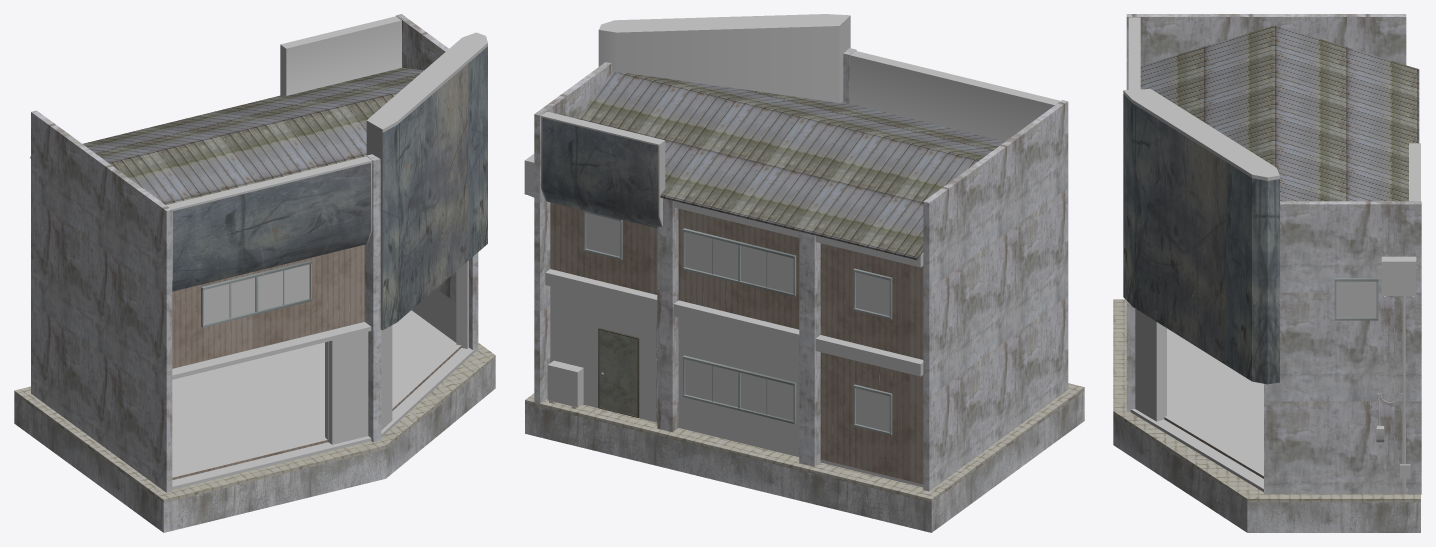
The model's file is ms_kado_c_in.fbx.
3 views of the same model, side by side, from view 1: azimuth 30°, elevation 25°; view 2: azimuth 150°, elevation 25°; view 3: azimuth 270°, elevation 25° (orthographic). The views are drawn at different scales.
Visible parts, largest first — view 1: ms_kado_c_in; view 2: ms_kado_c_in; view 3: ms_kado_c_in.
Part boxes in pixels (bbox=[...]): ms_kado_c_in: bbox=[14, 14, 495, 532]; ms_kado_c_in: bbox=[524, 14, 1084, 532]; ms_kado_c_in: bbox=[1113, 14, 1421, 532].
Bounding box in the file's own units: 1320 × 1085 × 854.
